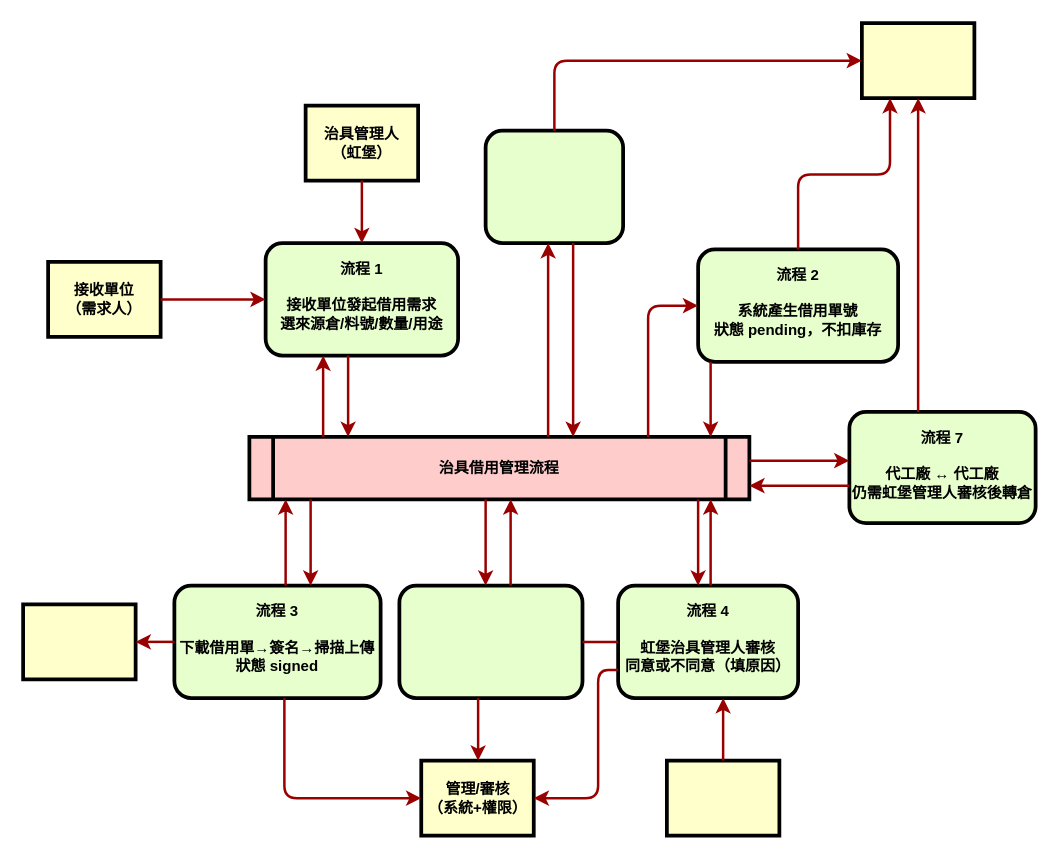
The diagram is 1059 pixels wide and 859 high, and some of its shapes have lost their labels. Here are the shapes that lost their labels. From the top down, the centre of each, then its label:
pixel 917 60: 來源倉 （虹堡/代工廠）
pixel 553 186: 流程 6 完成交付與追蹤 借用單可下載/查詢
pixel 79 641: 紀錄/報表 （查詢追溯）
pixel 490 641: 借用單 = 流程紀錄 借出 = 管理人確認後扣帳
pixel 722 797: 來源倉 （上齊/睿均等）
